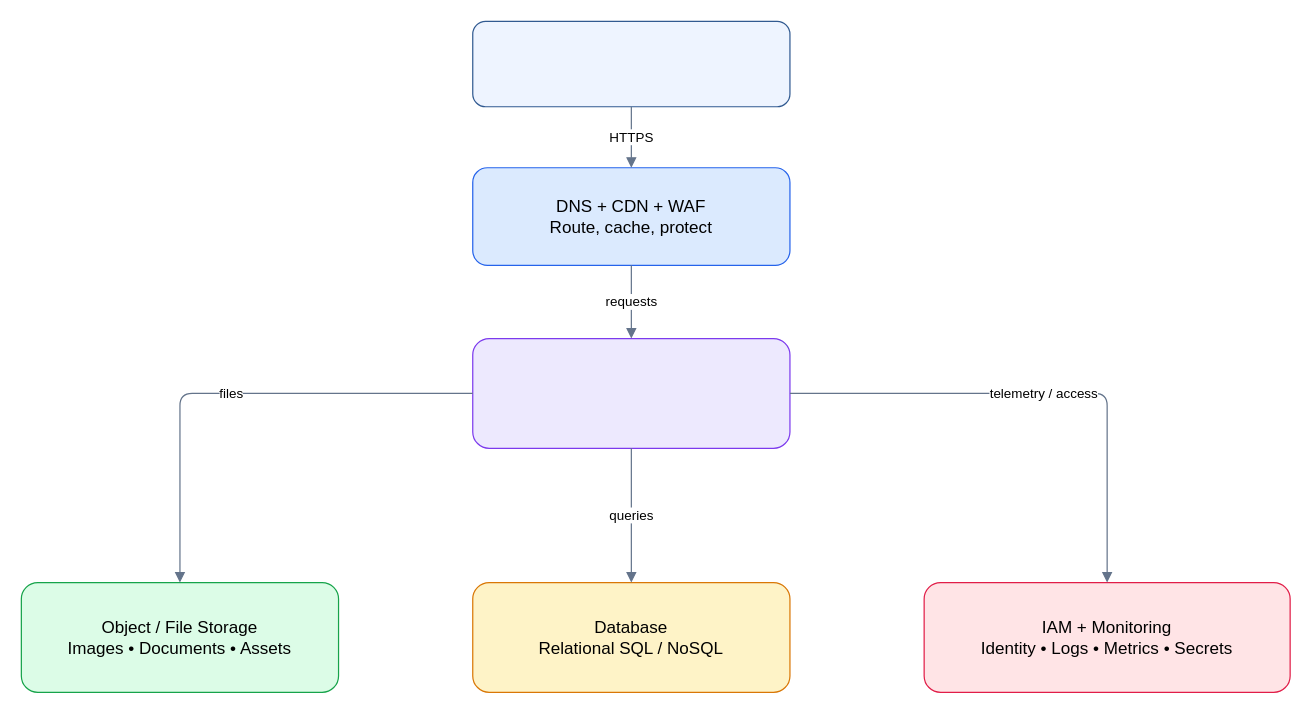
Image size: 1312x714. Some labels were removed from this diagram. Here are the shapes that lost their labels. From the top down, the centre of each, then its label:
At point 631,63: "Users / Browser HTTPS".
At point 631,392: "Application / API VM • Container • PaaS • Serverless".
